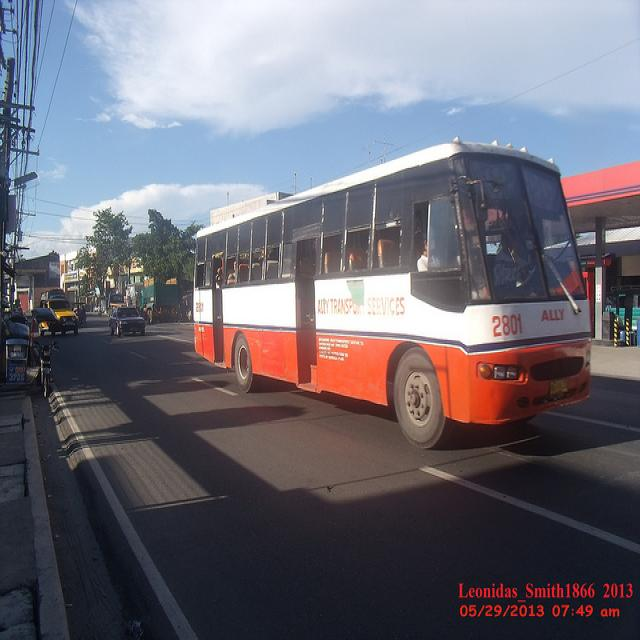motor: (31, 339, 60, 399)
